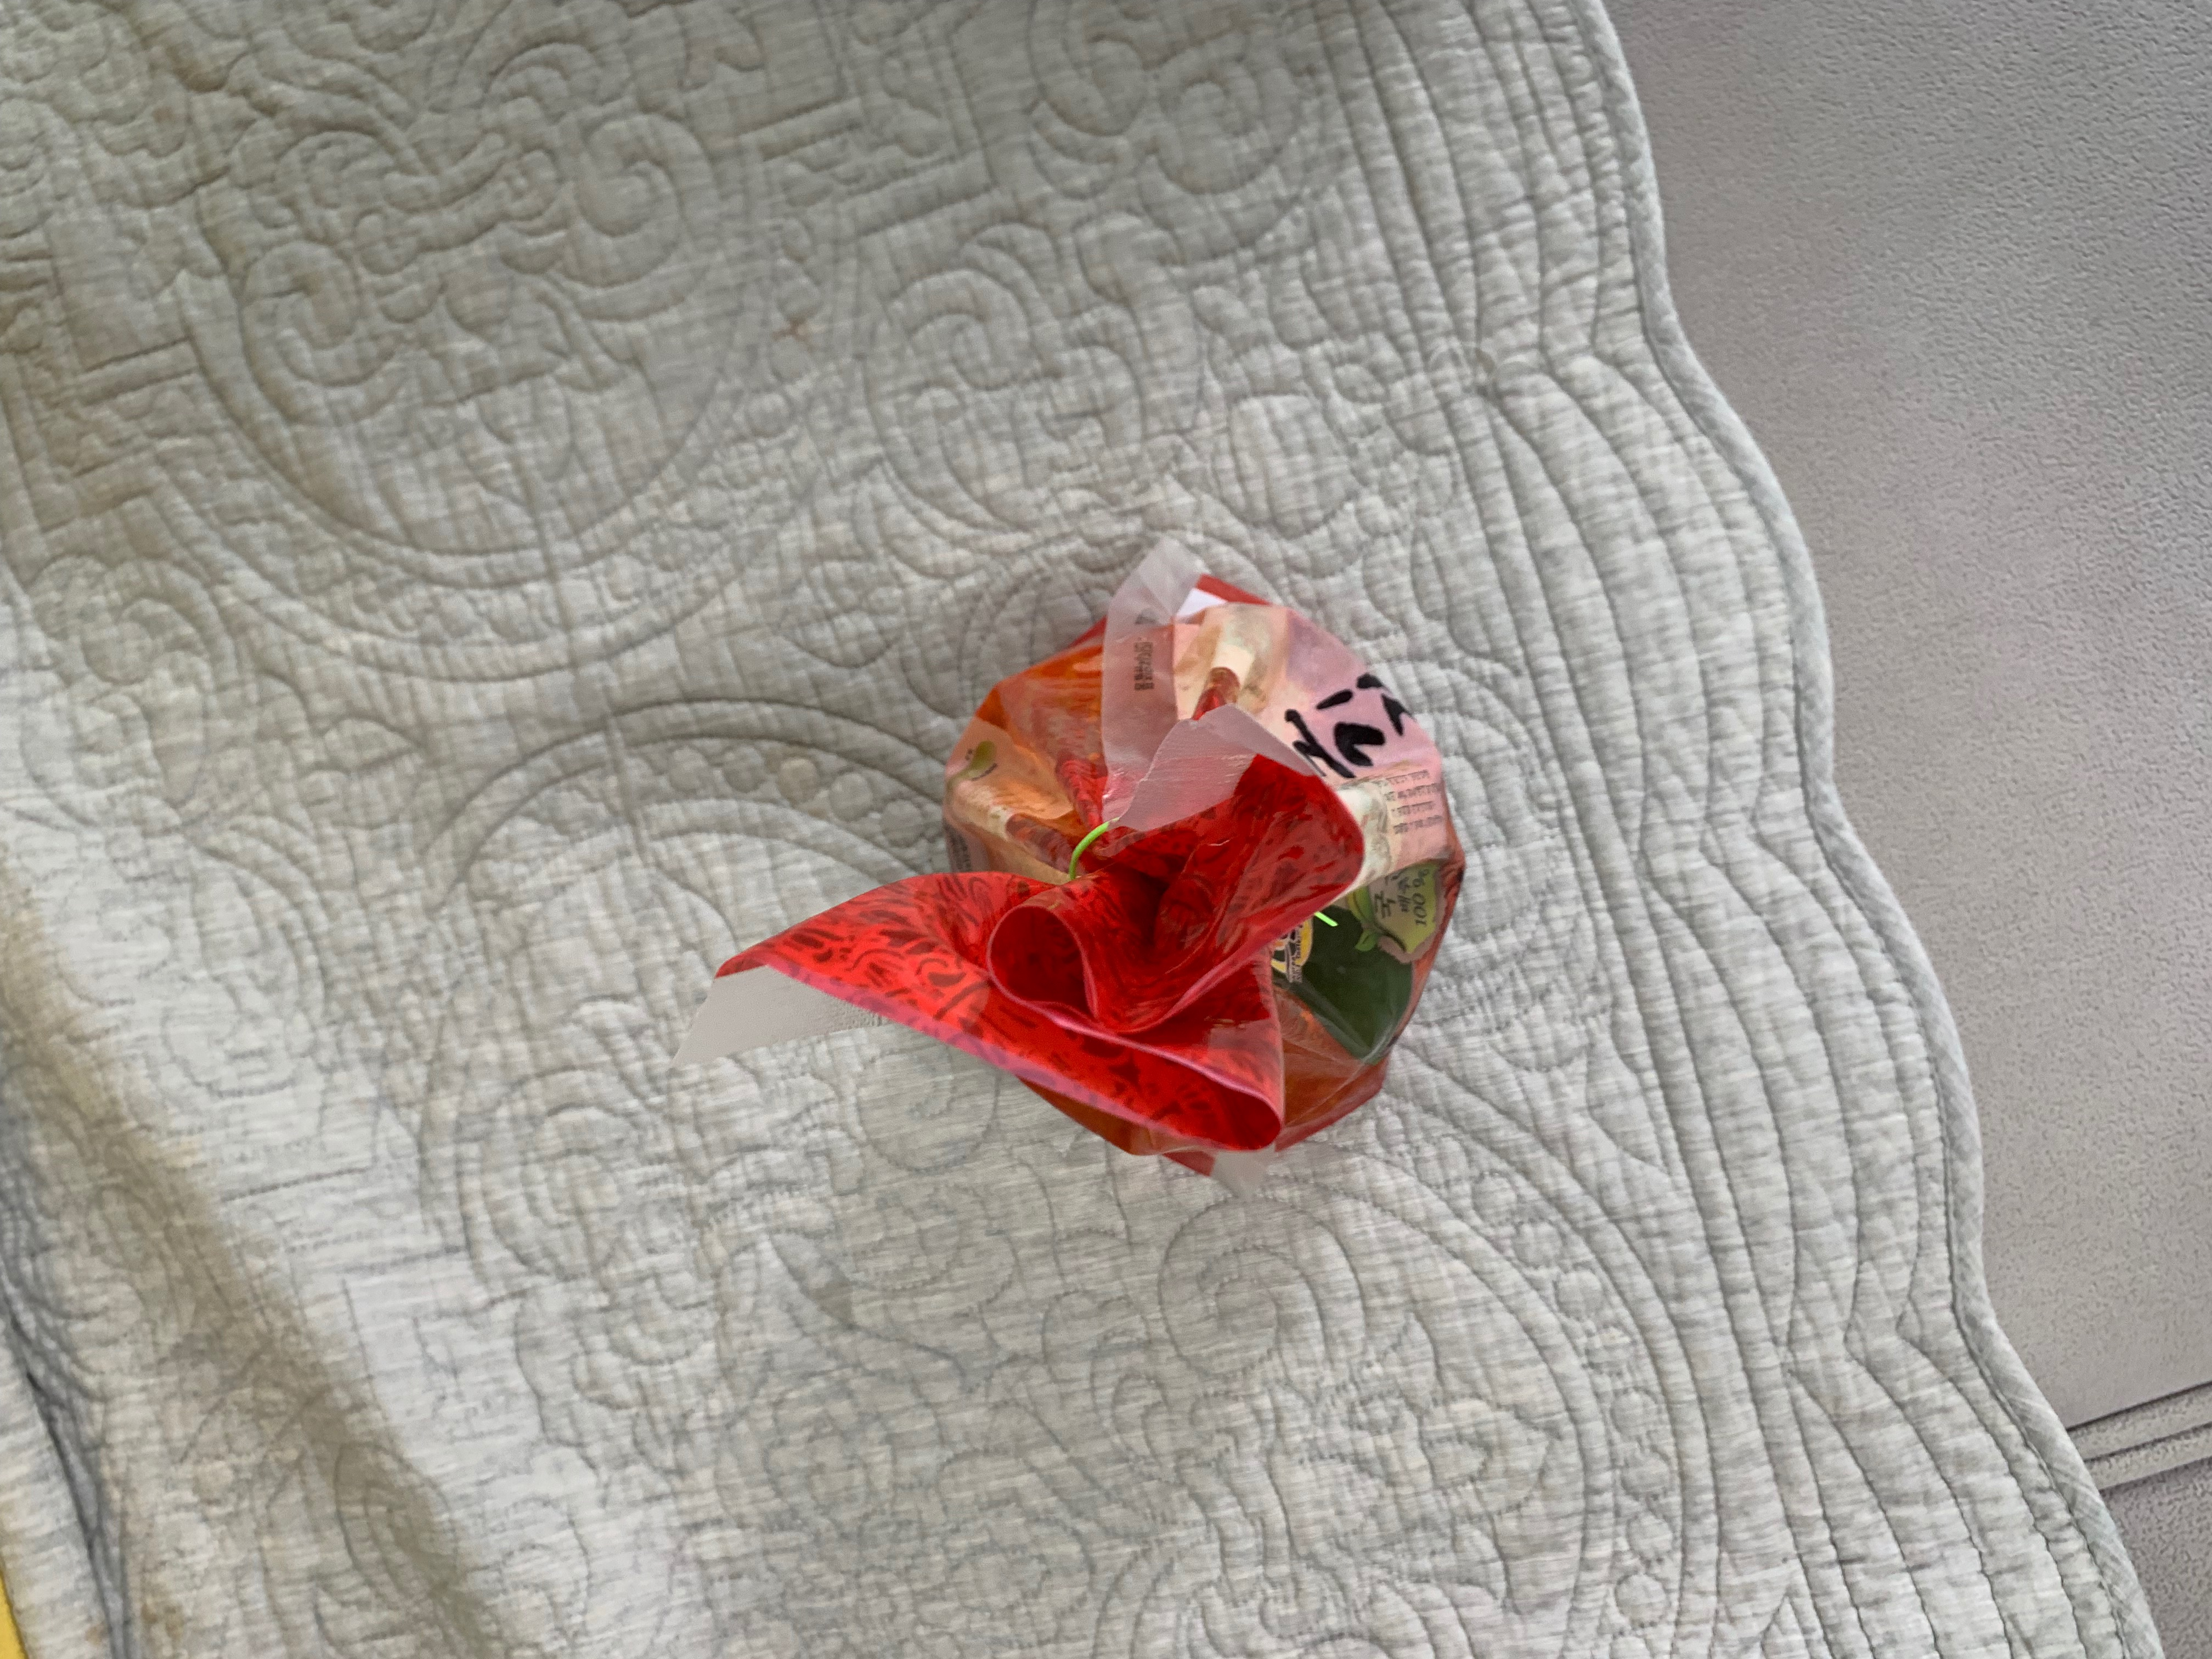kimchi: (878, 582, 1467, 1169)
